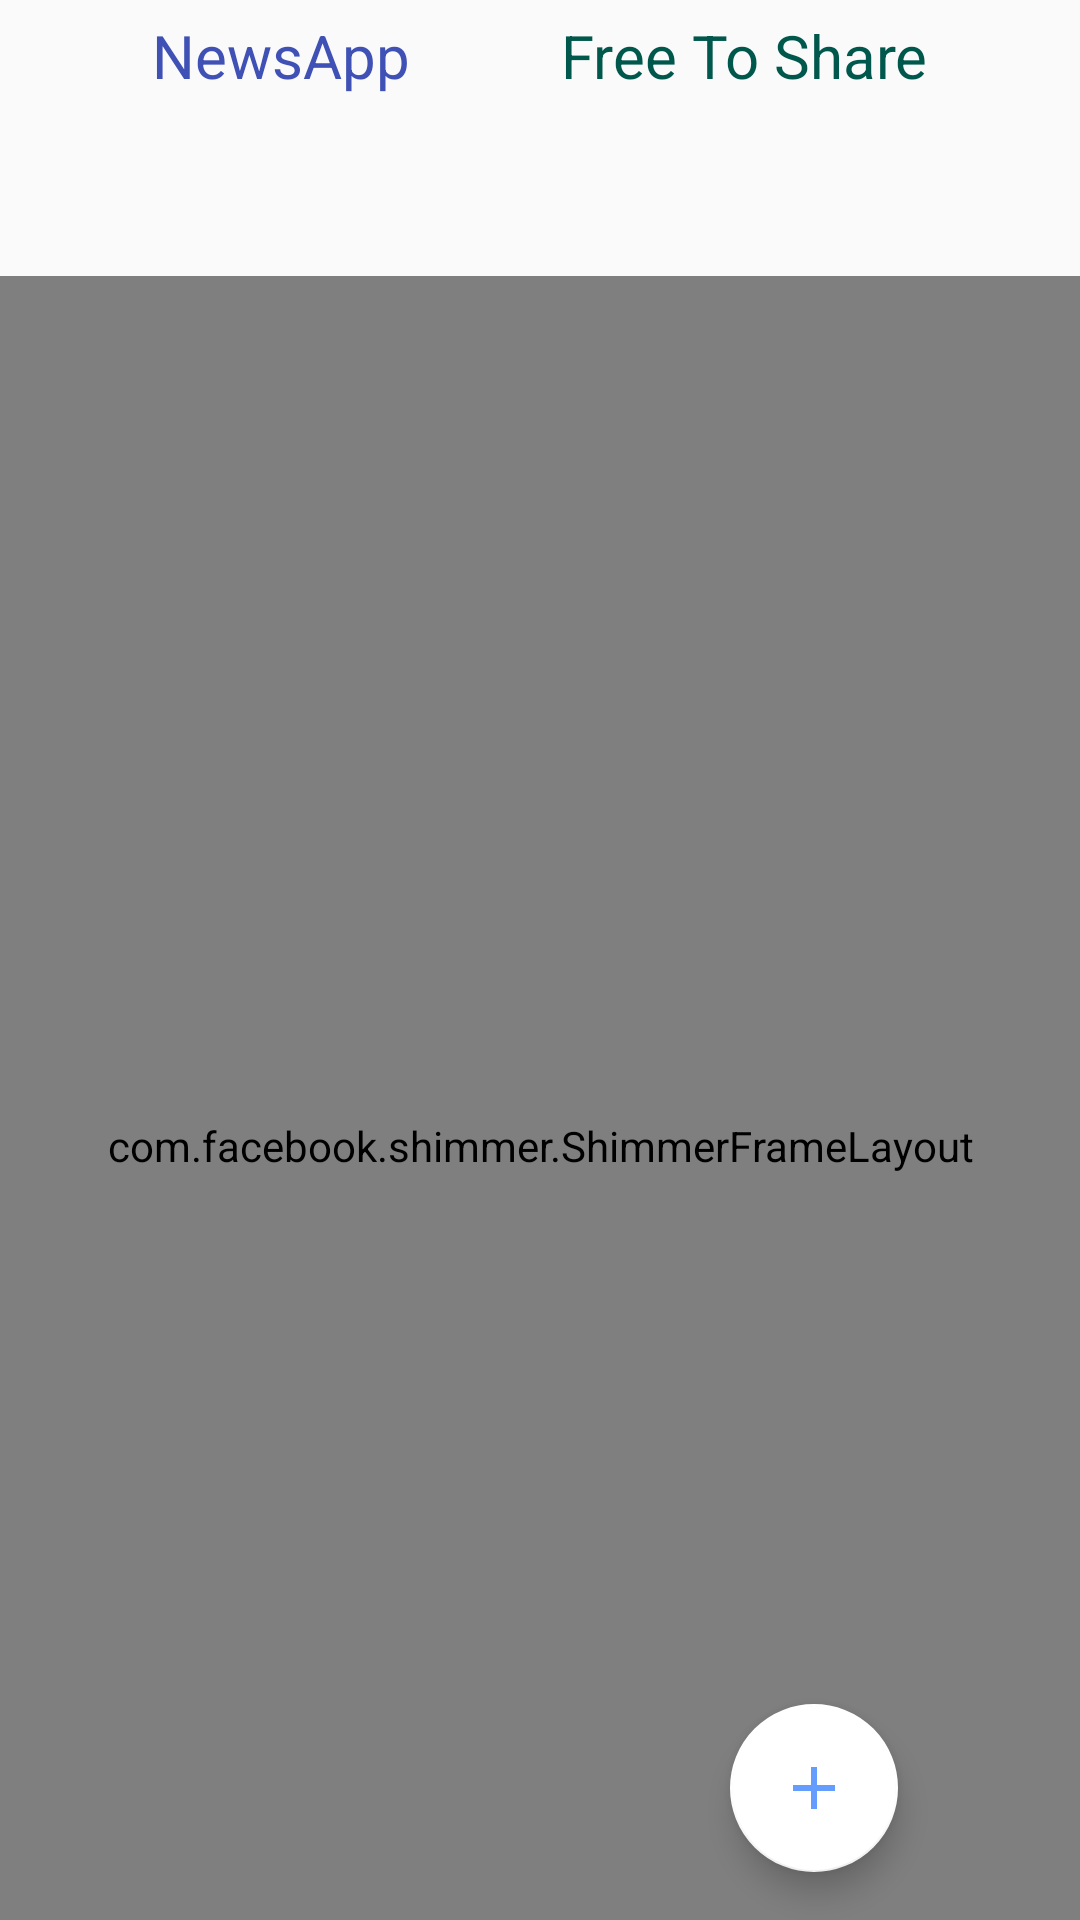

Screen size 1080px×1920px. Icon name, then its box in pixels as box=[x1, y1, x2, y2]:
add: box=[730, 1704, 898, 1872]
